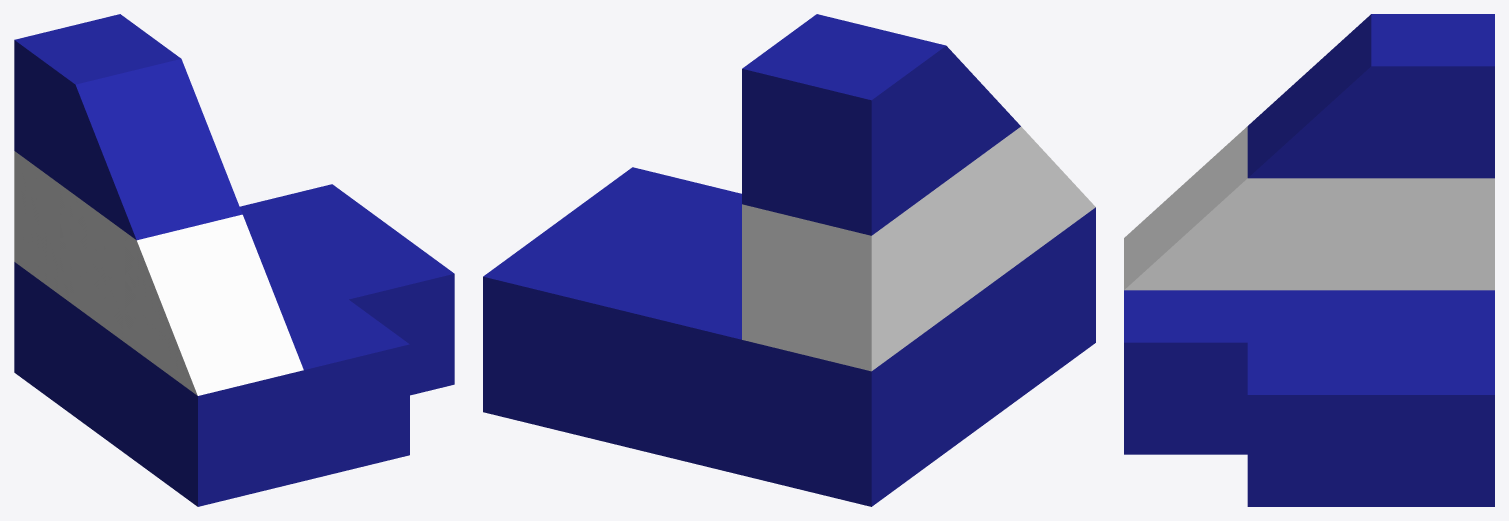
The model's file is vista1.glb.
3 renders of one model, left to right at view 1: azimuth 30°, elevation 25°; view 2: azimuth 150°, elevation 25°; view 3: azimuth 270°, elevation 25°, orthographic. The views are drawn at different scales.
Parts seen in each view (by area): view 1: Cube; view 2: Cube; view 3: Cube.
Boxes of the visible parts, x1=… form: Cube: x1=14, y1=14, x2=454, y2=506; Cube: x1=483, y1=14, x2=1095, y2=506; Cube: x1=1124, y1=14, x2=1494, y2=506.
Size of what is drawn, in the model's own units: 6 by 6 by 6.
